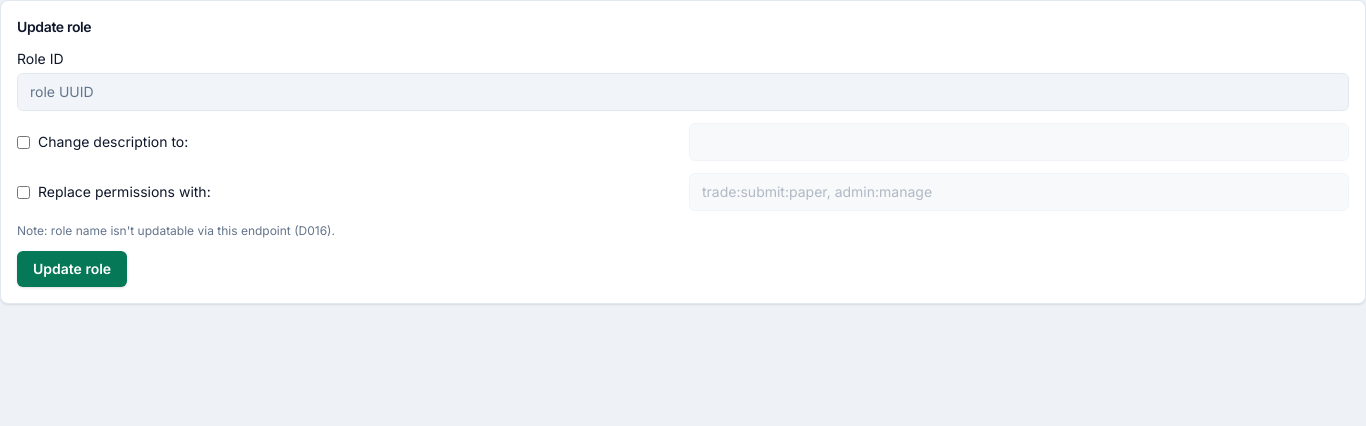
UpdateRoleForm › renders updated permissions on success
In the field labelled "Role ID": (683, 92) [17, 73, 1349, 111], type "r-1"
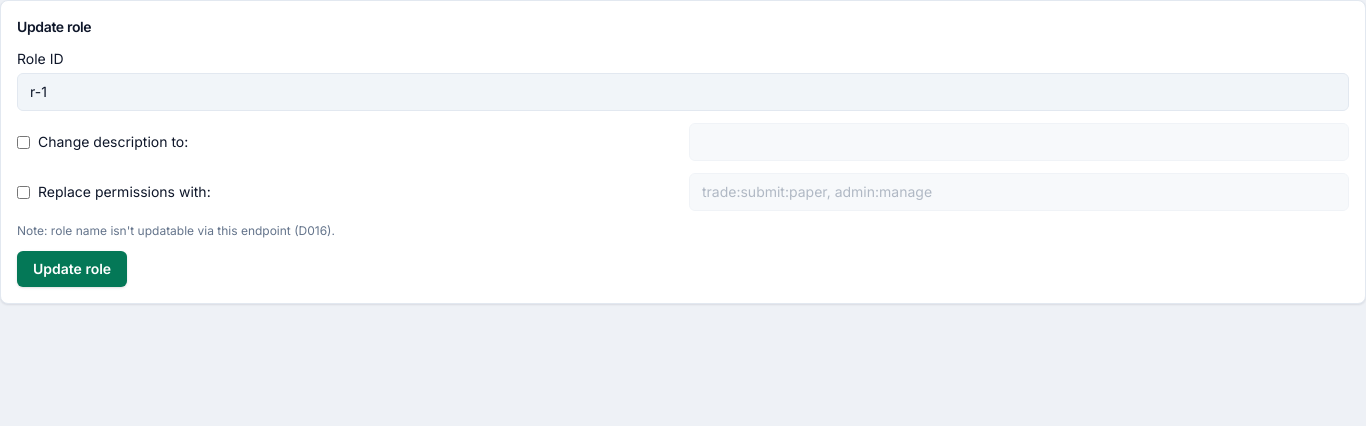
Click the checkbox labelled "Replace permissions with:": (24, 192) [17, 186, 30, 198]
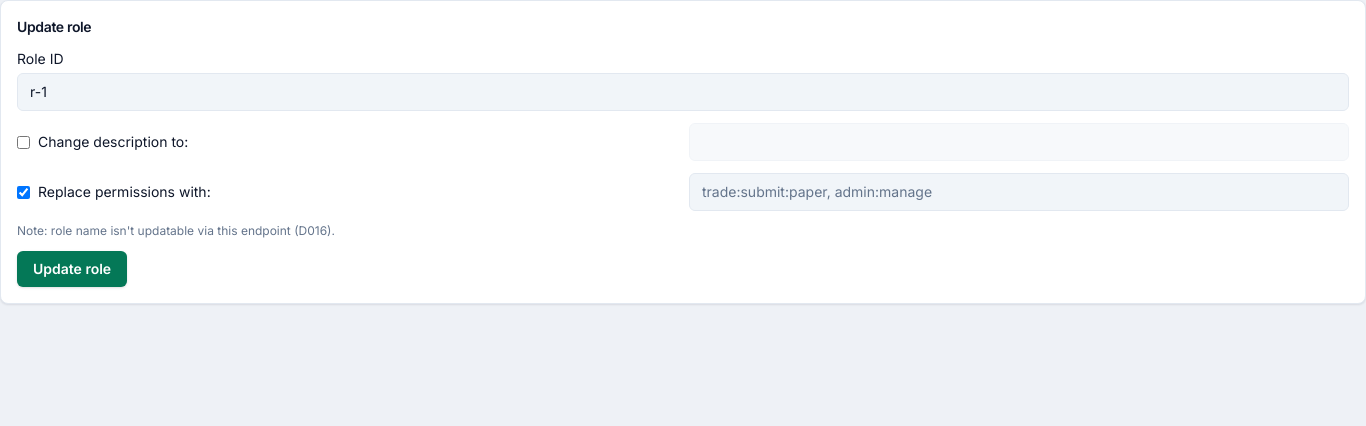
Click the button "Update role": (72, 269) [17, 251, 127, 287]
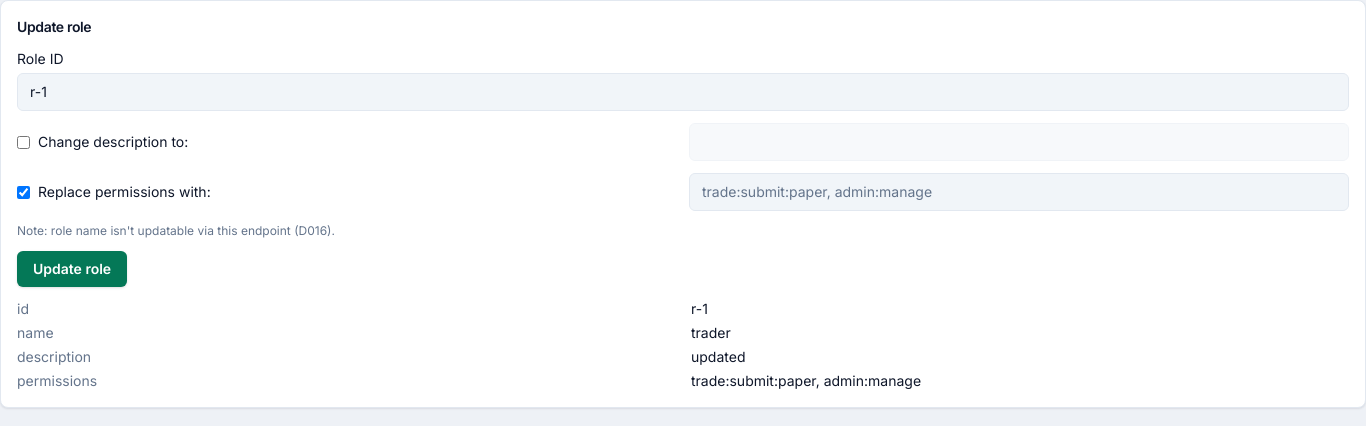
Now the text "trade:submit:paper, admin:manage" is shown, box [691, 372, 921, 389]
